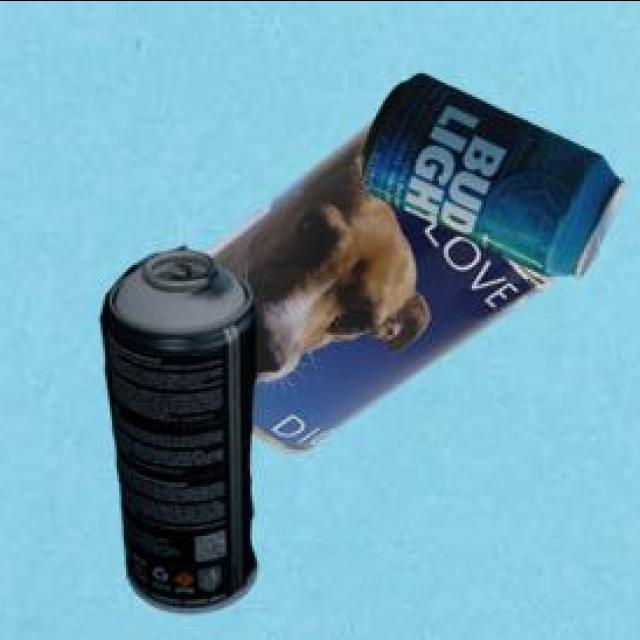logam: (209, 120, 555, 450), (104, 242, 260, 608), (363, 69, 629, 272)
